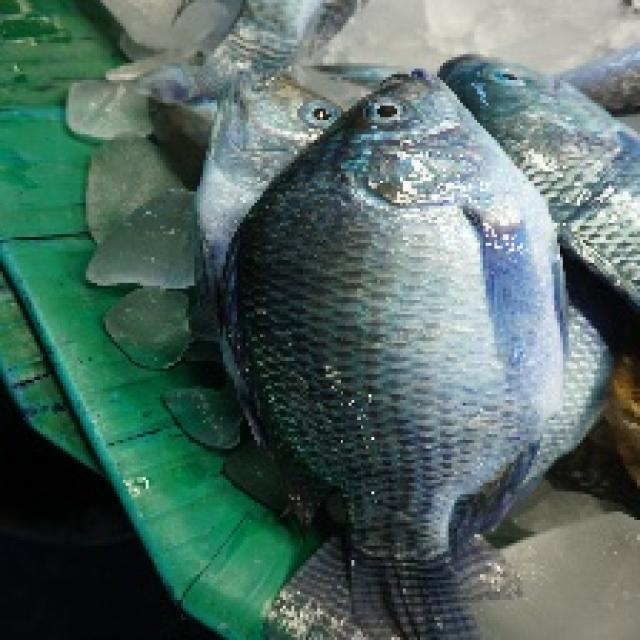Fresh: (245, 59, 570, 554)
